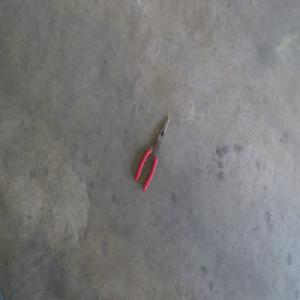Pliers: (134, 117, 170, 194)
